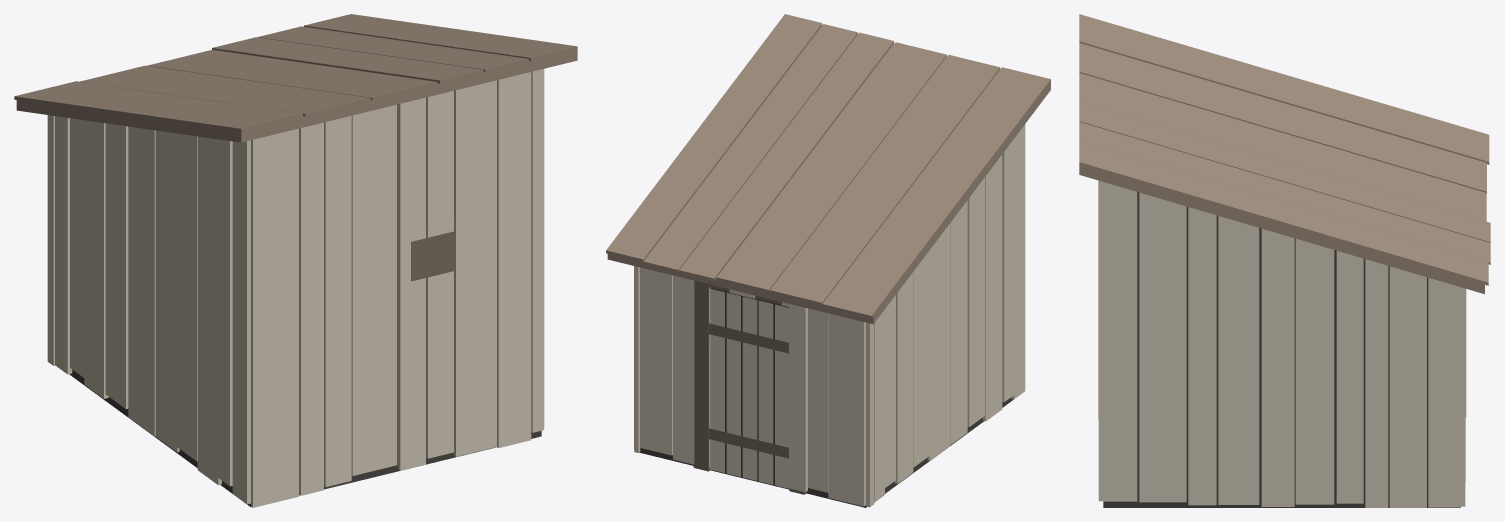
Rendered from recon_1835_blk_washington_clark_a5_08__inferred_1835.glb.
3 renders of one model, left to right at view 1: azimuth 30°, elevation 25°; view 2: azimuth 150°, elevation 25°; view 3: azimuth 270°, elevation 25°, orthographic. The views are drawn at different scales.
Visible parts, largest first — view 1: recon_1835_blk_washington_clark_a5_08__inferred_1835; view 2: recon_1835_blk_washington_clark_a5_08__inferred_1835; view 3: recon_1835_blk_washington_clark_a5_08__inferred_1835.
Part boxes in pixels (<box>): recon_1835_blk_washington_clark_a5_08__inferred_1835: <box>14,14,577,507</box>; recon_1835_blk_washington_clark_a5_08__inferred_1835: <box>606,14,1050,507</box>; recon_1835_blk_washington_clark_a5_08__inferred_1835: <box>1079,14,1490,507</box>.
Bounding box in the file's own units: 2.84 × 3.17 × 3.33.
